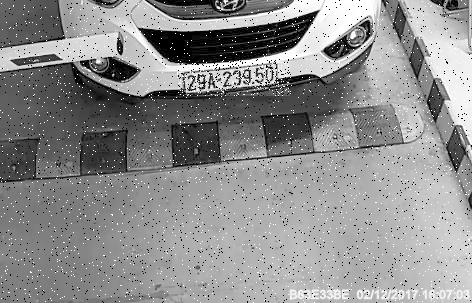License-plate: (180, 61, 293, 97)
